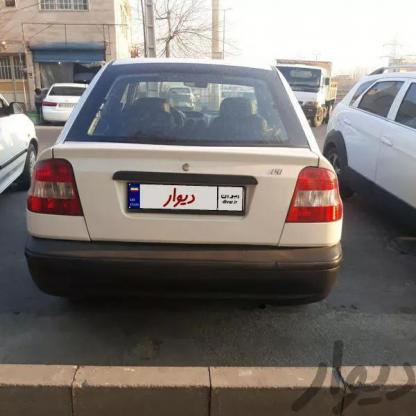Car: (23, 57, 344, 306), (326, 64, 416, 275), (0, 91, 43, 213), (30, 80, 107, 128)
Truck: (276, 45, 334, 142)
